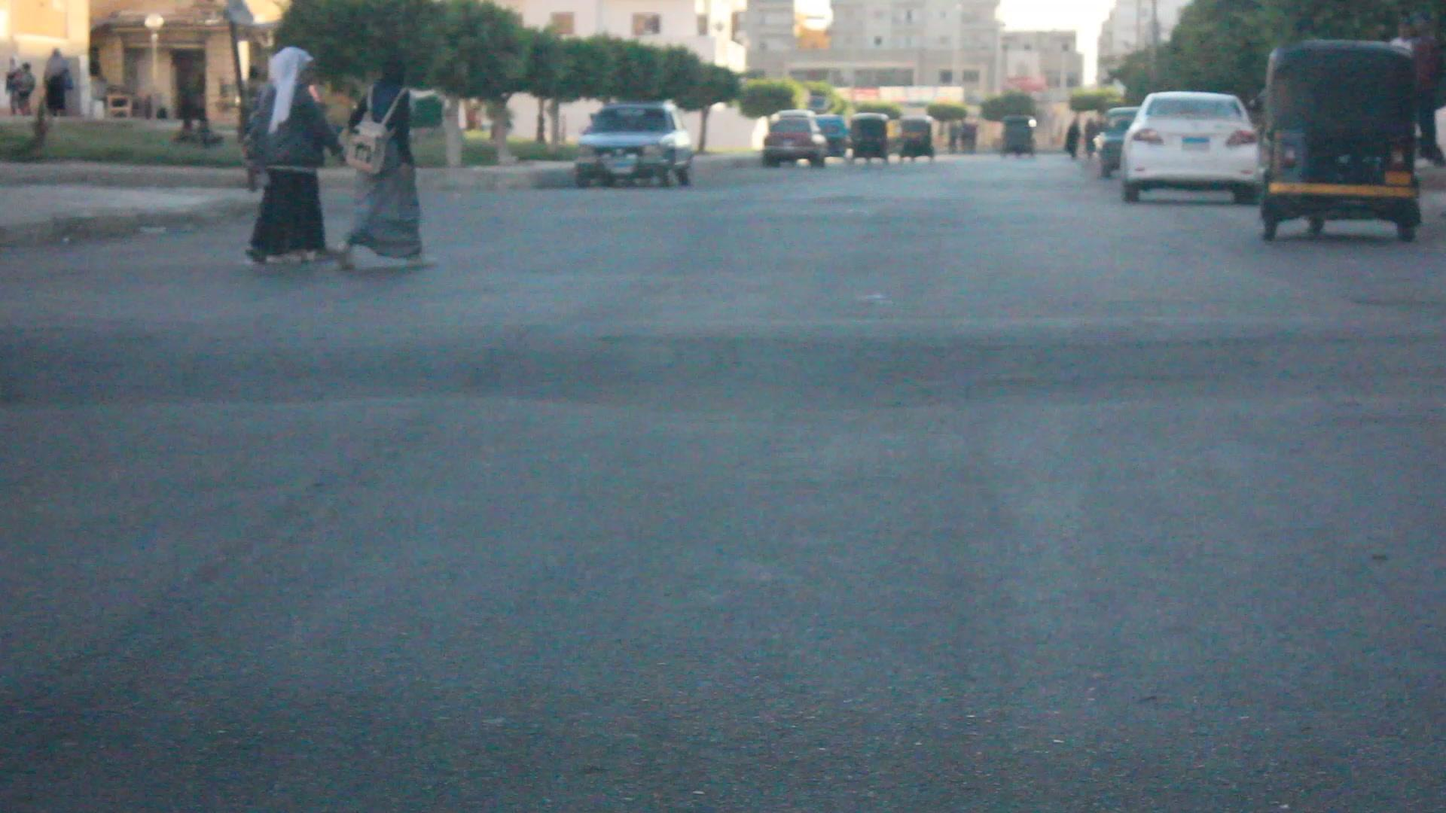Bump: (4, 288, 1446, 395)
